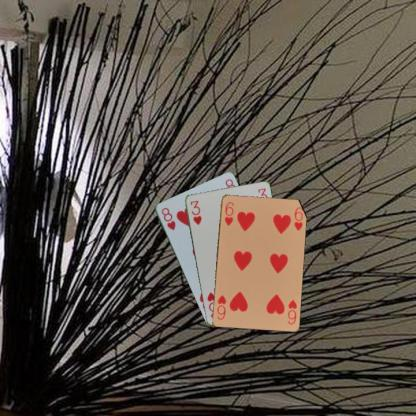3h: (188, 198, 203, 226)
6h: (222, 199, 234, 227), (286, 297, 298, 325)
8h: (158, 205, 177, 231)
